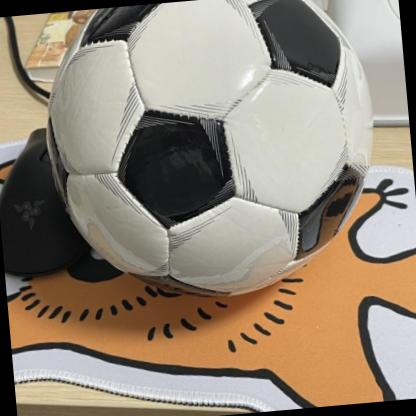ball: (36, 0, 387, 311)
